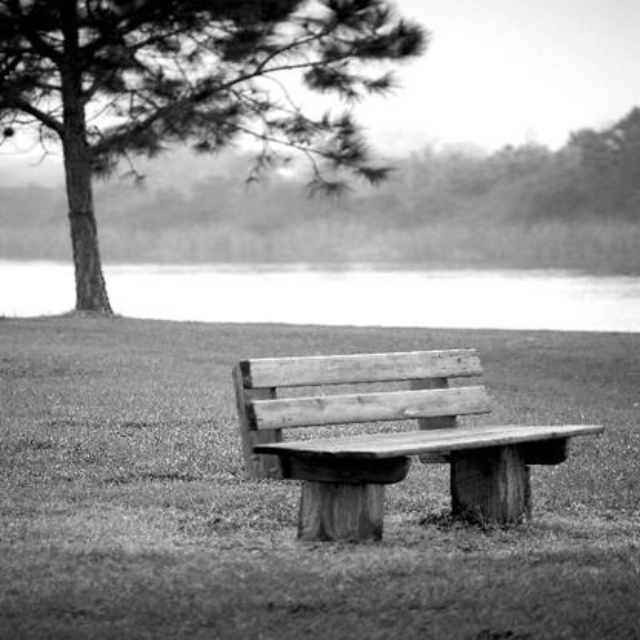obstacle: (222, 337, 608, 554)
